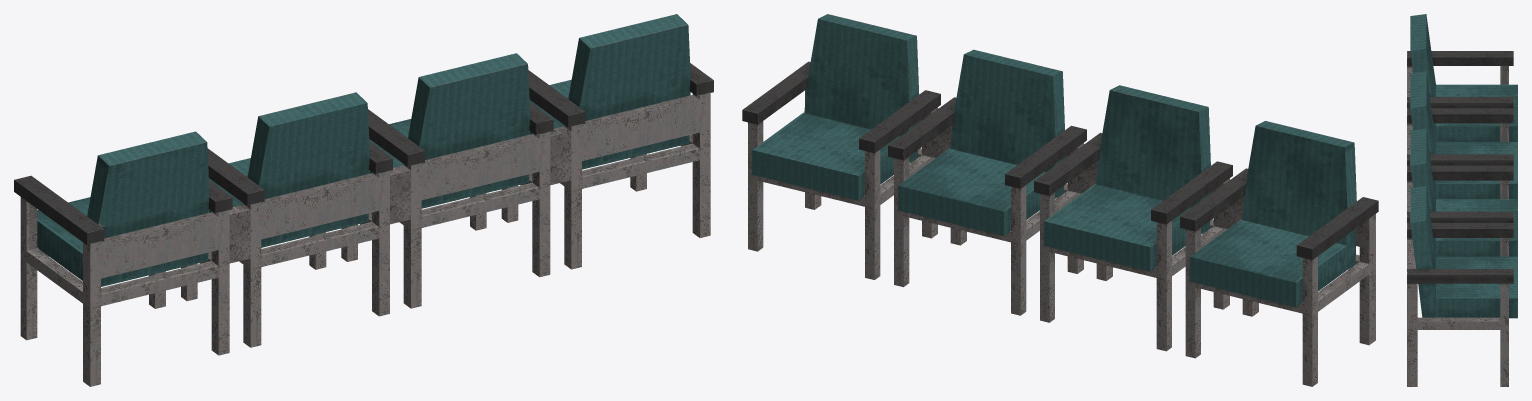
The model's file is SM_WaitingChair_Row_4.fbx.
3 renders of one model, left to right at view 1: azimuth 30°, elevation 25°; view 2: azimuth 150°, elevation 25°; view 3: azimuth 270°, elevation 25°, orthographic. The views are drawn at different scales.
Parts seen in each view (by area): view 1: SM_WaitingChair_Row_4; view 2: SM_WaitingChair_Row_4; view 3: SM_WaitingChair_Row_4.
Part boxes in pixels (bbox=[...]): SM_WaitingChair_Row_4: bbox=[14, 14, 713, 386]; SM_WaitingChair_Row_4: bbox=[742, 14, 1378, 386]; SM_WaitingChair_Row_4: bbox=[1407, 14, 1517, 386].
Size of the model in its own units: 321 by 106 by 67.23.
